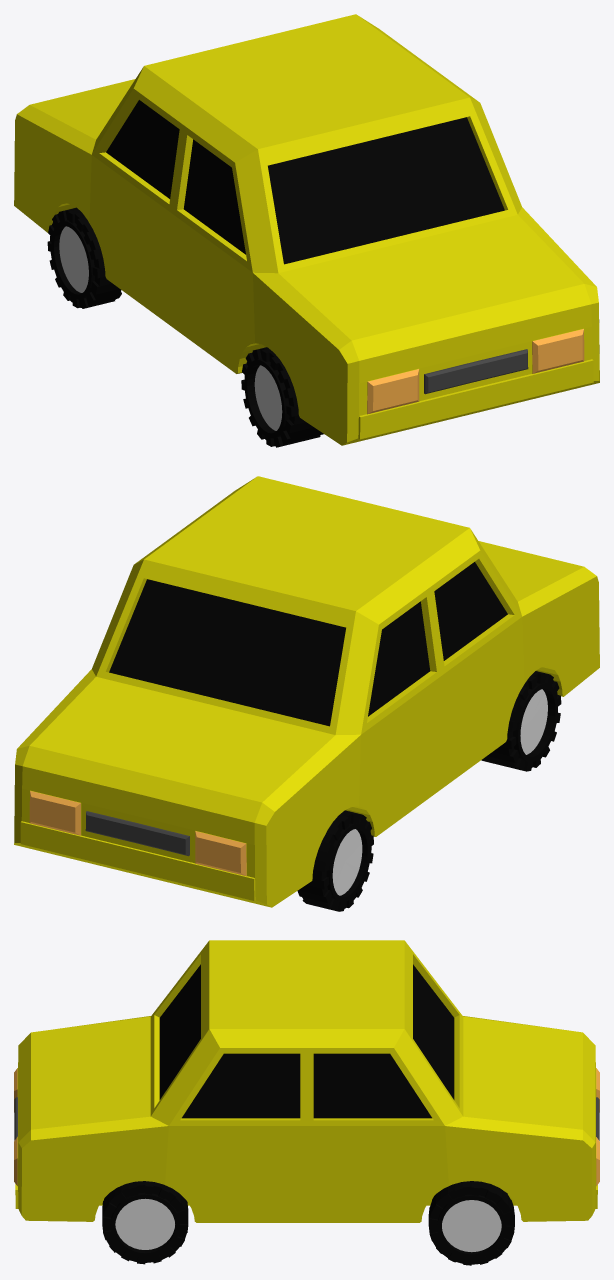
File: avp_car.glb
The picture shows the model from 3 angles, top to bottom: view 1: azimuth 30°, elevation 25°; view 2: azimuth 150°, elevation 25°; view 3: azimuth 270°, elevation 25°; orthographic projection. The views are drawn at different scales.
Parts seen in each view (by area): view 1: Cube; view 2: Cube; view 3: Cube.
Part boxes in pixels (x1,y1,x2,y2): Cube: (14, 14, 599, 447); Cube: (14, 476, 599, 911); Cube: (14, 940, 599, 1265).
Bounding box in the file's own units: 4.05 × 3.62 × 8.61.
